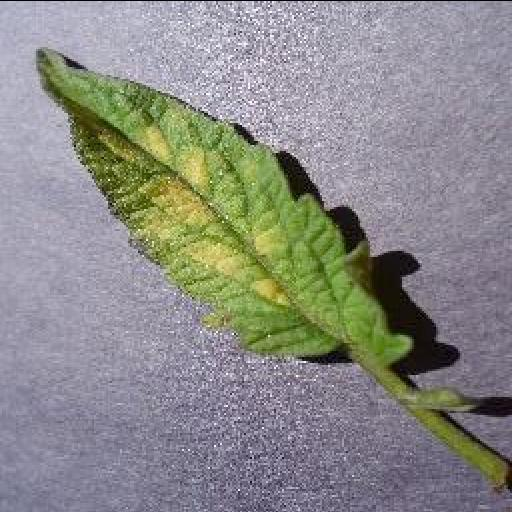disease_tomato: (34, 48, 414, 372)
